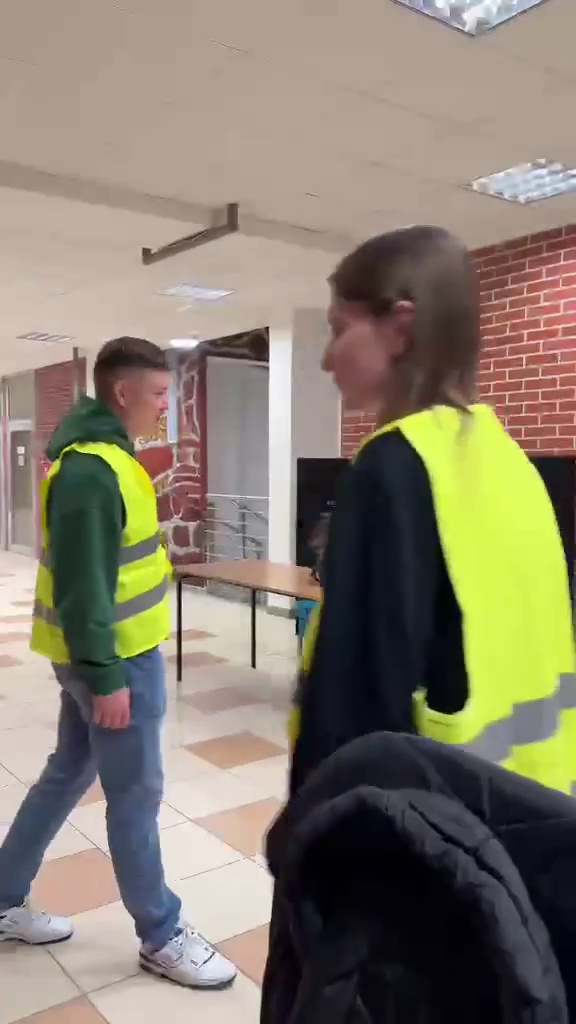vest: (311, 227, 570, 809), (8, 333, 229, 983)
